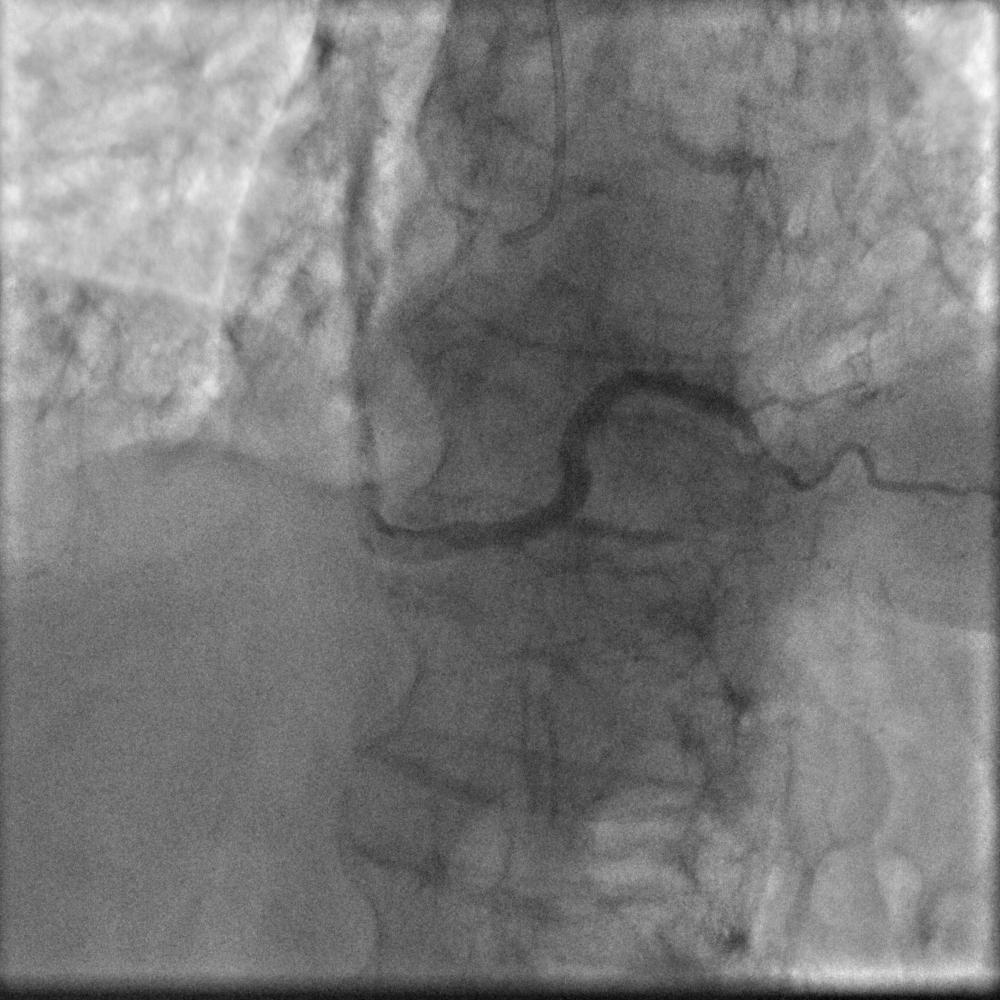Stenosis: (740, 394, 786, 483)
